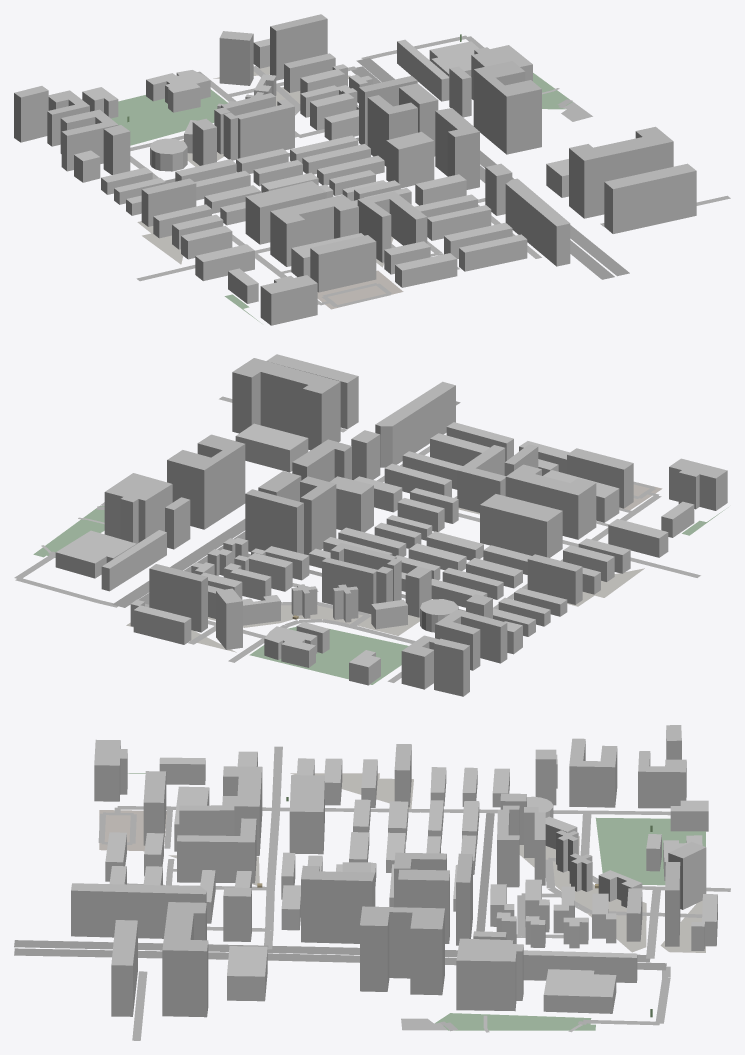
3 views of the same model, one above another, from view 1: azimuth 30°, elevation 25°; view 2: azimuth 150°, elevation 25°; view 3: azimuth 270°, elevation 25° (orthographic). The views are drawn at different scales.
Bounding box in the file's own units: 573 × 60.48 × 591.
